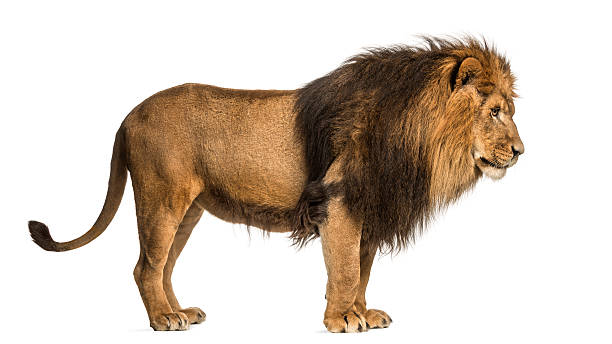lion: (279, 7, 546, 293)
